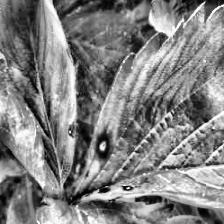Leaf Spot: (61, 1, 224, 224), (0, 0, 79, 197)
